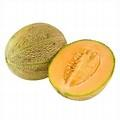Melon Ripe: (48, 39, 115, 101), (6, 23, 67, 80)
